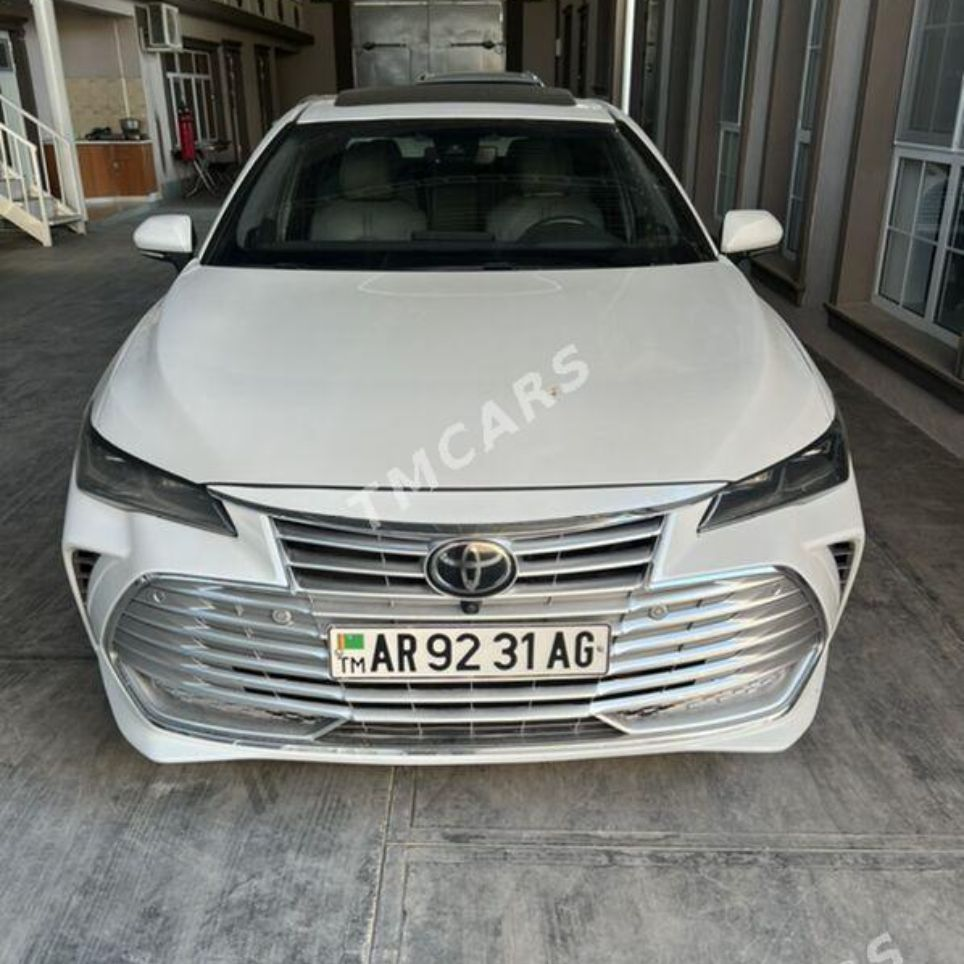license plate: (330, 627, 609, 680)
truck: (57, 77, 837, 760)
